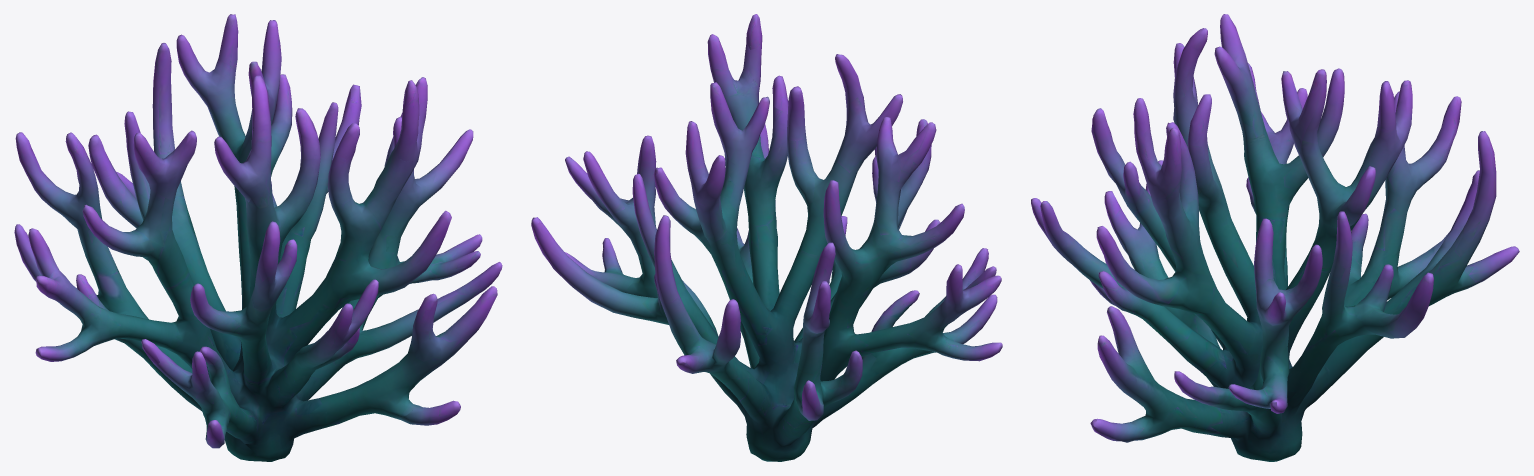
The model's file is coral-shrub.glb.
3 views of the same model, side by side, from view 1: azimuth 30°, elevation 25°; view 2: azimuth 150°, elevation 25°; view 3: azimuth 270°, elevation 25° (orthographic). The views are drawn at different scales.
Visible parts, largest first — view 1: mesh_node; view 2: mesh_node; view 3: mesh_node.
Boxes of the visible parts, x1,y1,x2,y2 form: mesh_node: (14,14,502,461); mesh_node: (531,14,1002,461); mesh_node: (1031,14,1519,461).
Bounding box in the file's own units: 2.09 × 1.8 × 1.95.
Materials: 1 (1 with a texture image).
